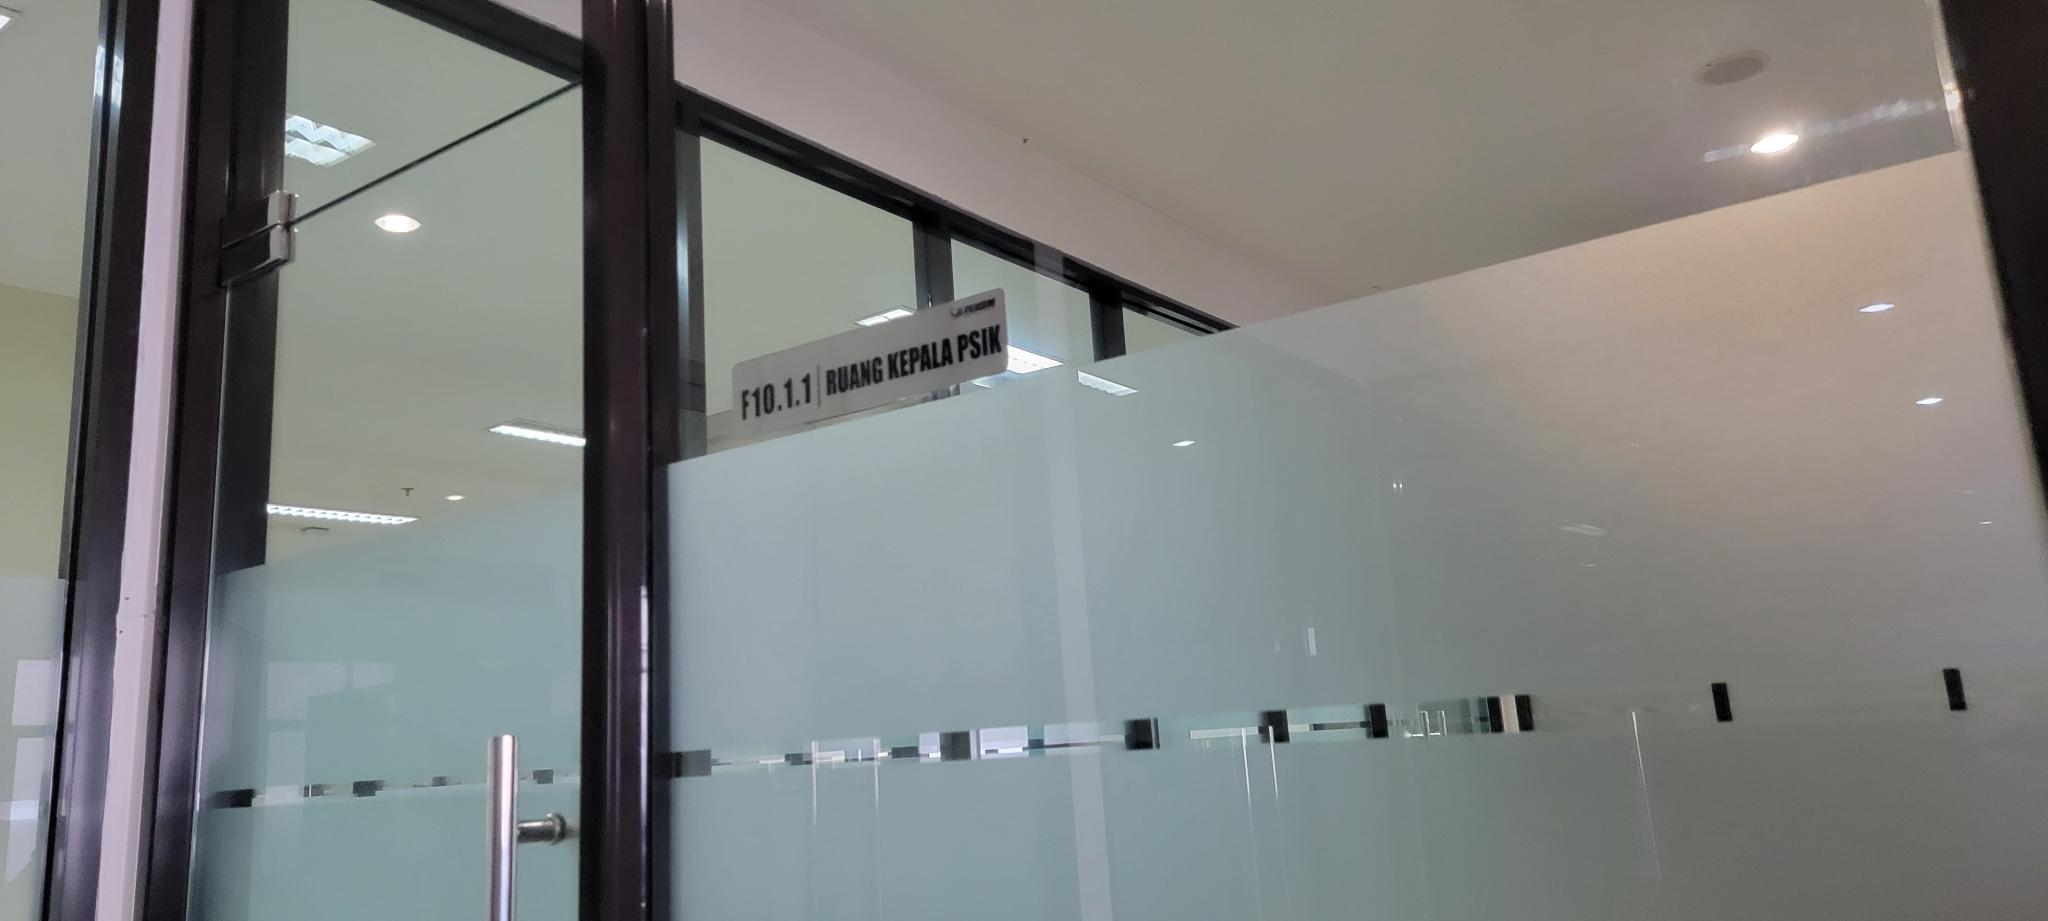plate: (729, 287, 1010, 445)
